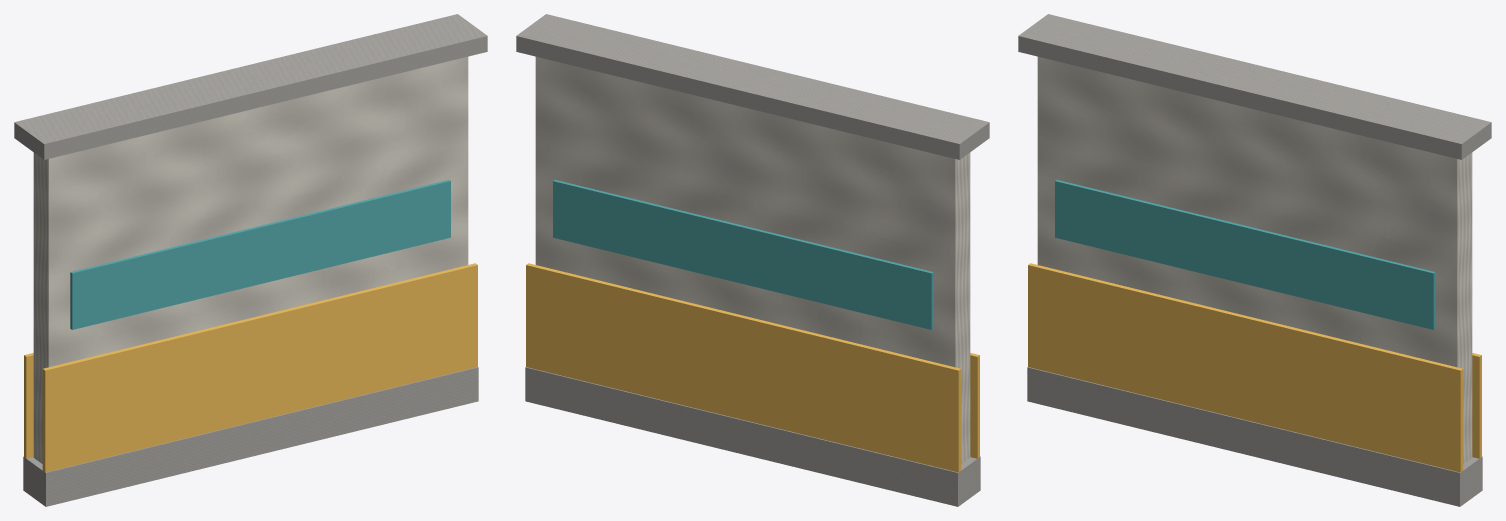
File: plaster-wall.glb
3 views of the same model, side by side, from view 1: azimuth 30°, elevation 25°; view 2: azimuth 150°, elevation 25°; view 3: azimuth 330°, elevation 25° (orthographic).
Visible parts, largest first — view 1: plaster-wall-run-plaster, plaster-wall-run-saffron, plaster-wall-run-stone, plaster-wall-run-teal; view 2: plaster-wall-run-plaster, plaster-wall-run-saffron, plaster-wall-run-stone, plaster-wall-run-teal; view 3: plaster-wall-run-plaster, plaster-wall-run-saffron, plaster-wall-run-stone, plaster-wall-run-teal.
Boxes of the visible parts, left/top/right/bottom form: plaster-wall-run-plaster: left=33, top=56, right=468, bottom=463; plaster-wall-run-saffron: left=24, top=263, right=477, bottom=472; plaster-wall-run-stone: left=14, top=14, right=487, bottom=506; plaster-wall-run-teal: left=70, top=180, right=450, bottom=329; plaster-wall-run-plaster: left=535, top=56, right=970, bottom=463; plaster-wall-run-saffron: left=526, top=263, right=979, bottom=472; plaster-wall-run-stone: left=516, top=14, right=989, bottom=506; plaster-wall-run-teal: left=553, top=180, right=933, bottom=329; plaster-wall-run-plaster: left=1037, top=56, right=1472, bottom=463; plaster-wall-run-saffron: left=1028, top=263, right=1481, bottom=472; plaster-wall-run-stone: left=1018, top=14, right=1491, bottom=506; plaster-wall-run-teal: left=1055, top=180, right=1435, bottom=329.
Size of the model in its own units: 4.1 by 3.24 by 0.48.
4 materials, 2 textured.
